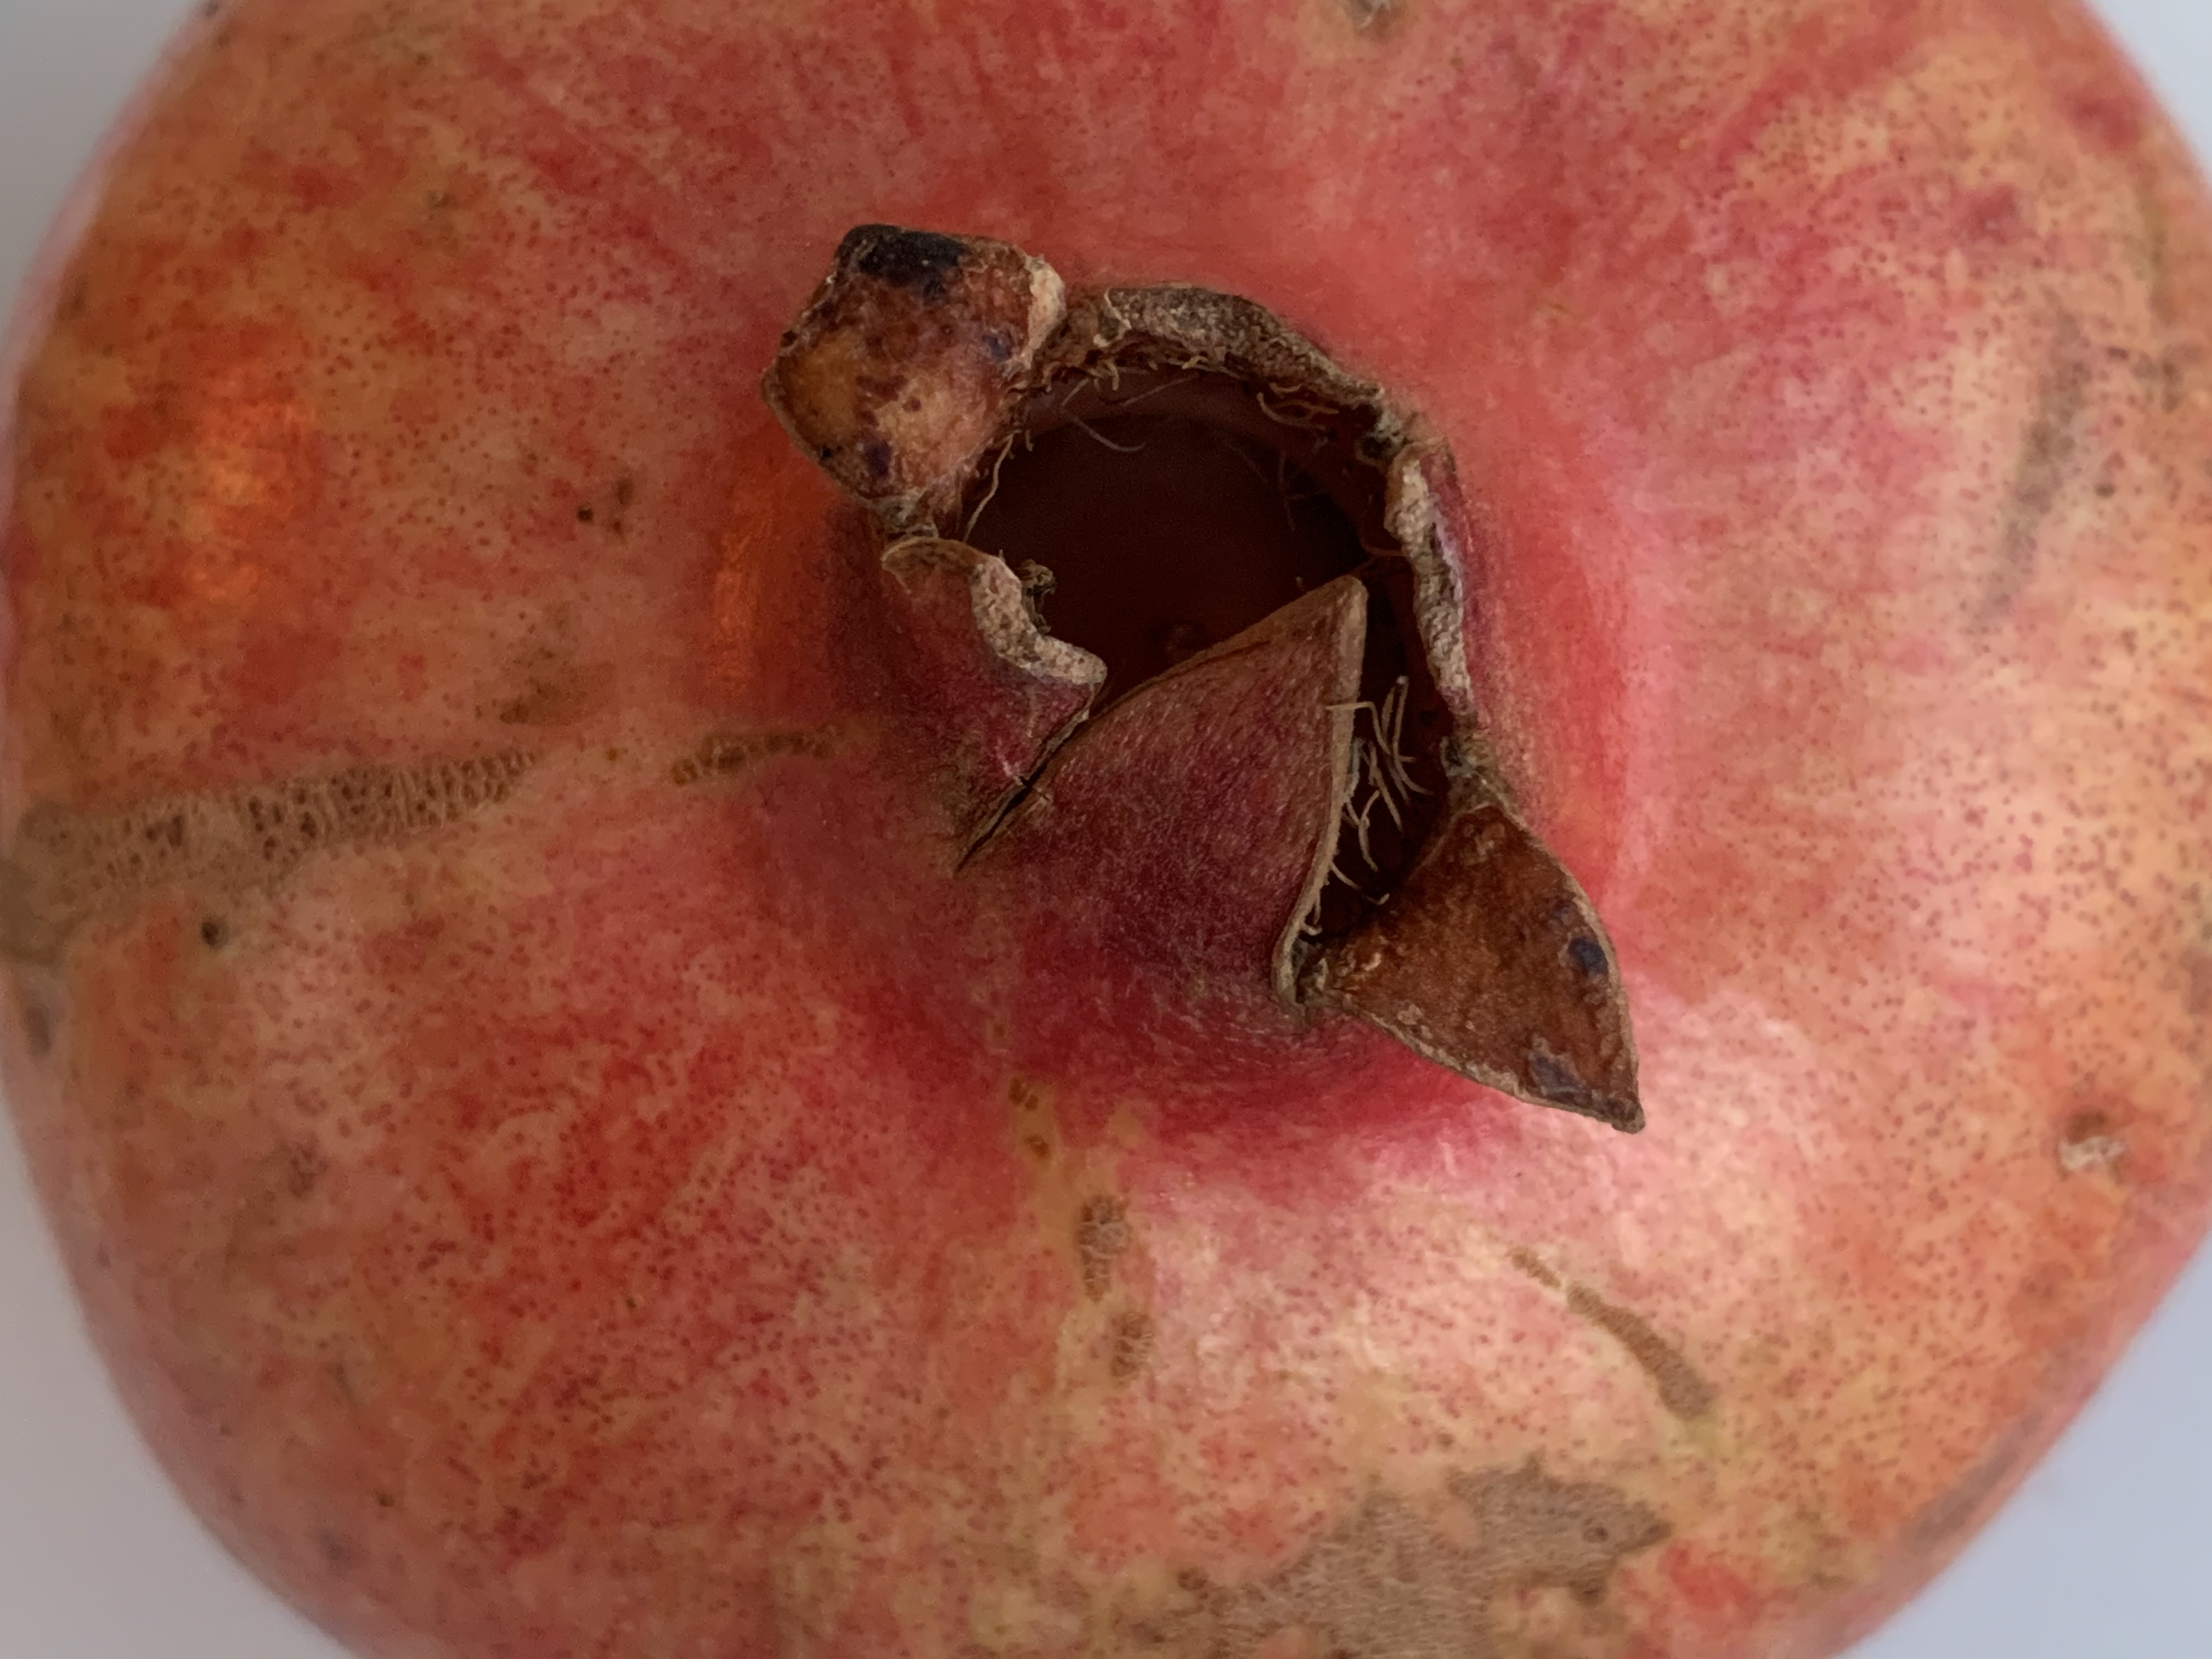Pomegranate: (7, 16, 2212, 1650)
